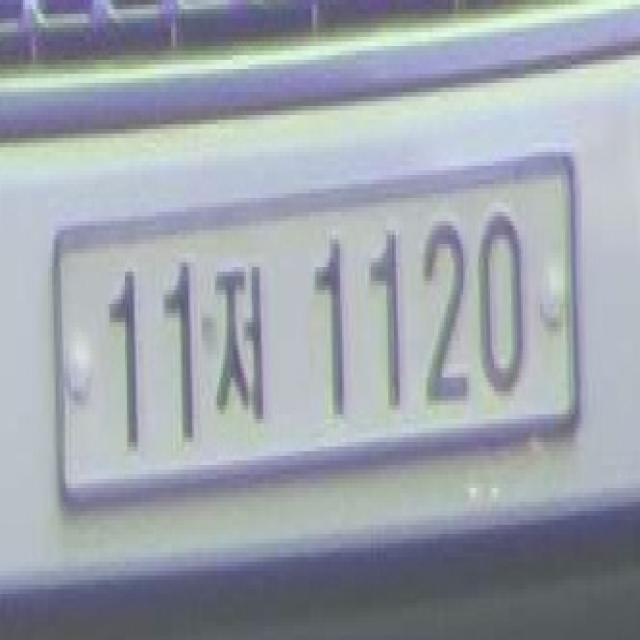0: (478, 198, 537, 406)
1: (371, 215, 406, 423), (160, 252, 196, 450), (314, 216, 348, 424), (112, 266, 142, 452)
2: (423, 216, 472, 417)
jeo: (210, 248, 272, 432)
license_plate: (50, 140, 585, 528)
